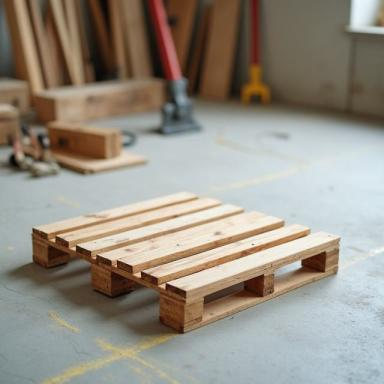pallet: (32, 190, 341, 334)
